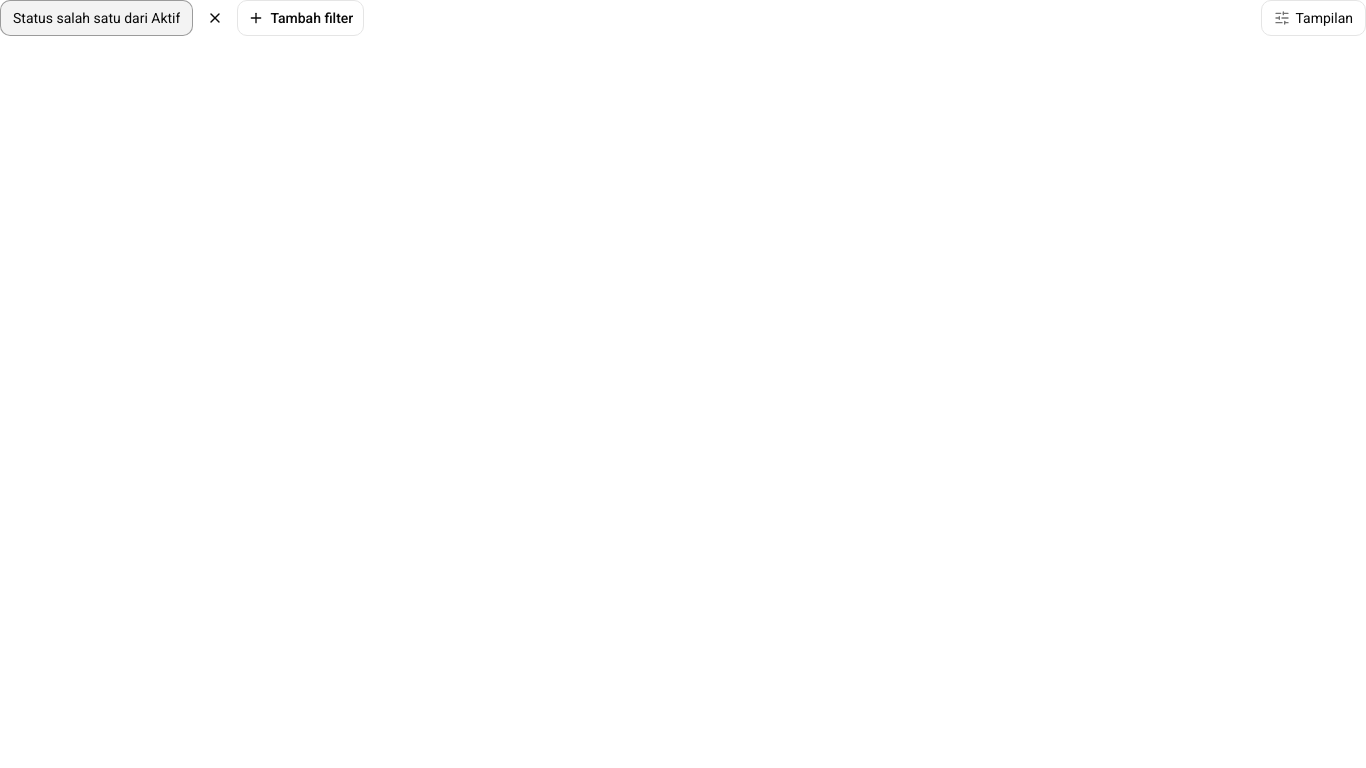
it: Tampilan edits apply on Terapkan or close (task 6.1) › does not change the result while editing a chip, and applies once on Terapkan
The image size is (1366, 768).
Click the button "Status salah satu dari Aktif": (97, 18) x1=0 y1=0 x2=193 y2=36
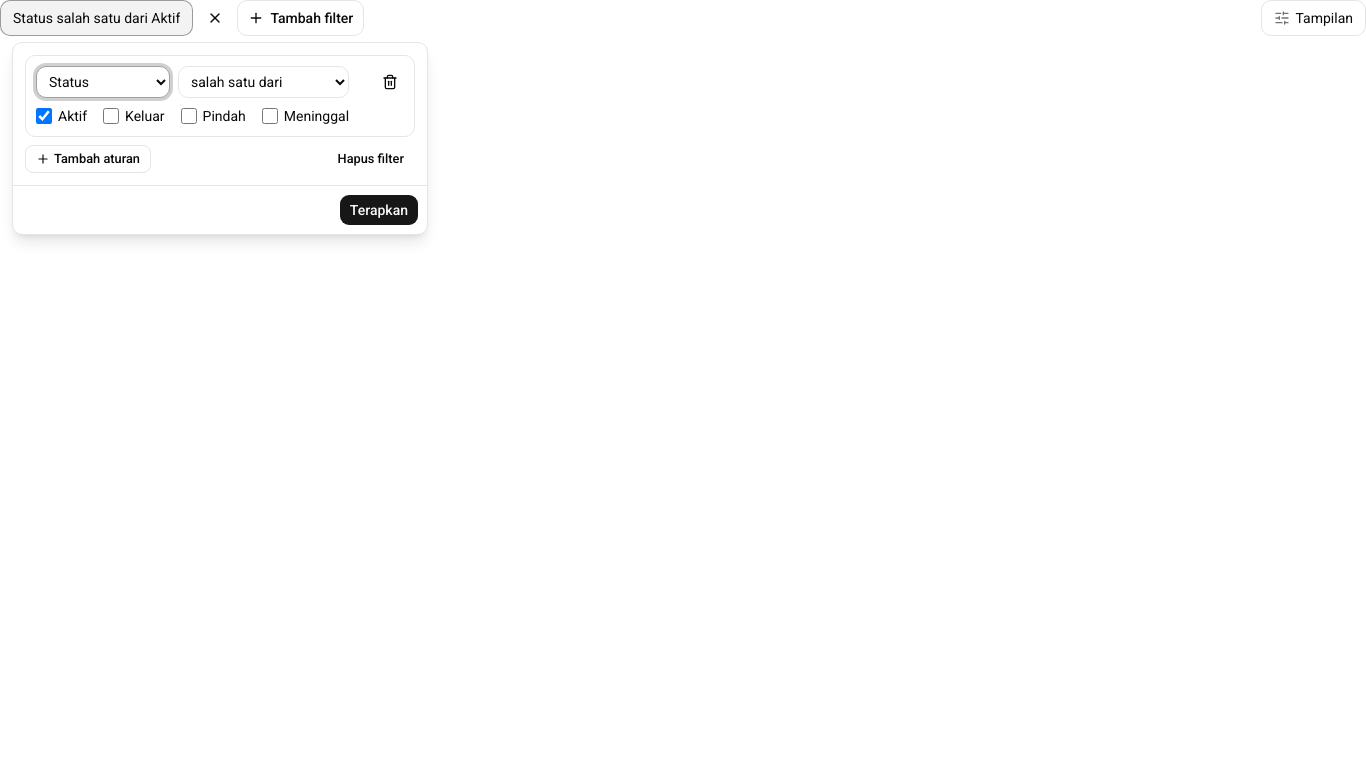
Click the checkbox labelled "Keluar": (111, 116) x1=103 y1=108 x2=119 y2=124
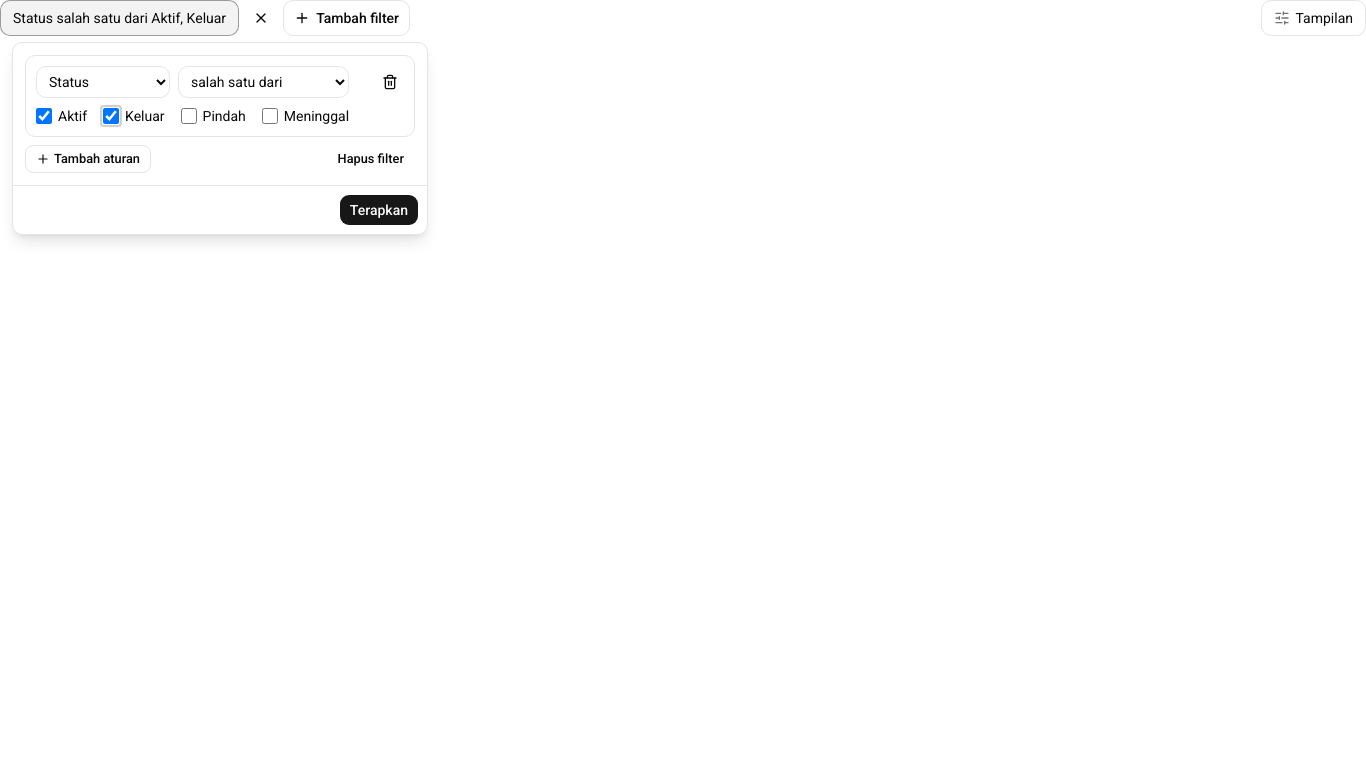
Click the button "Terapkan": (379, 210) x1=339 y1=194 x2=419 y2=226
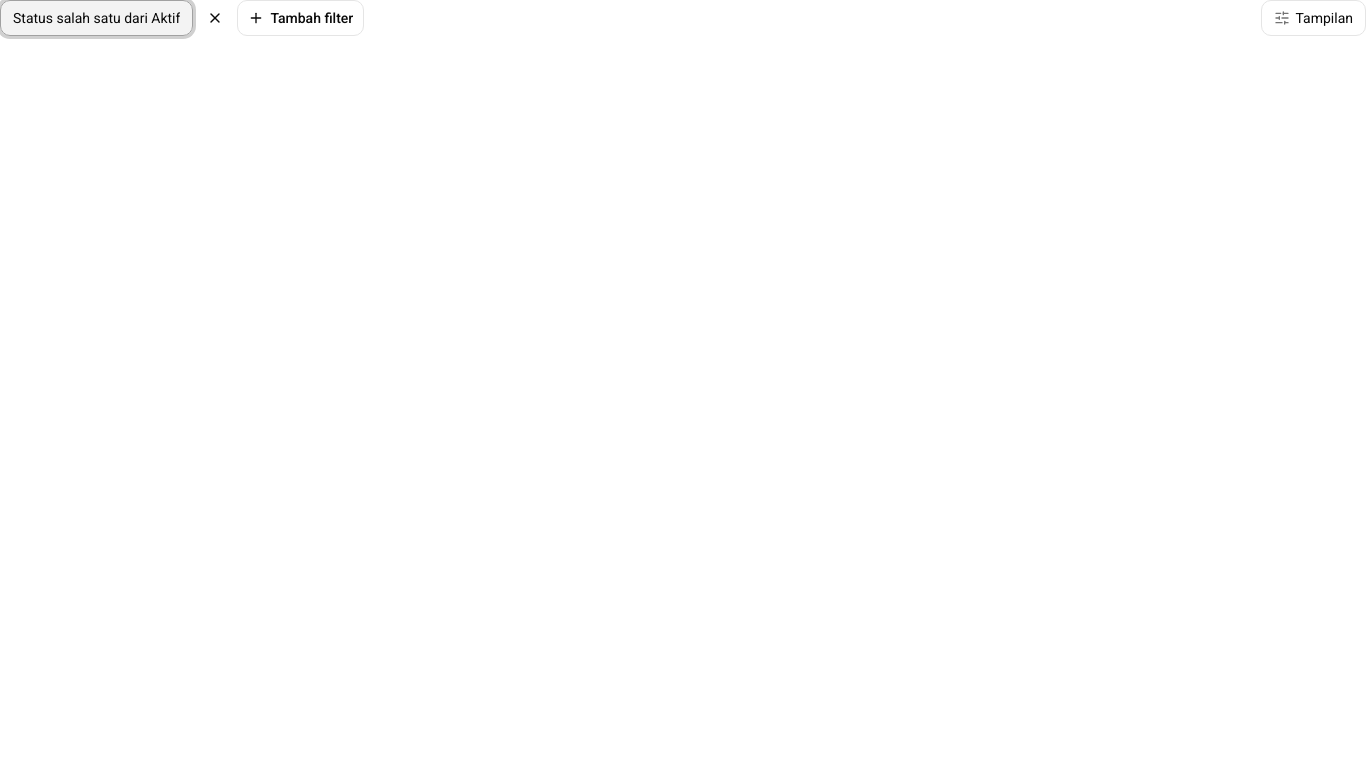
Expected: the dialog is gone
